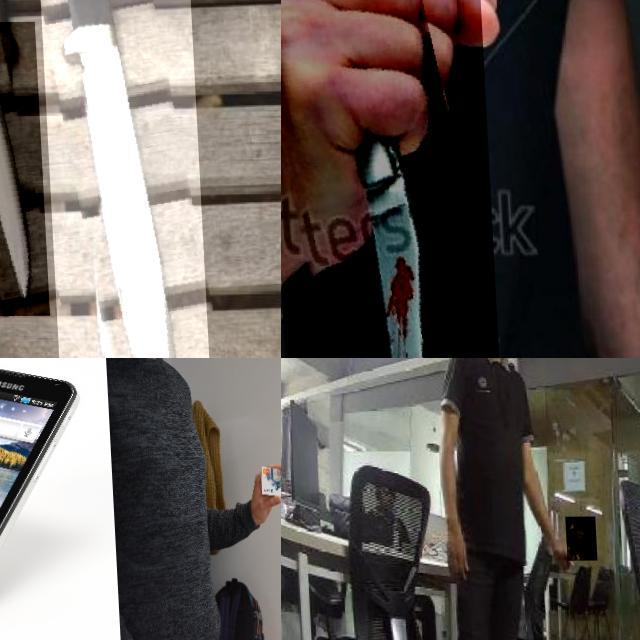-: (281, 0, 498, 358), (32, 0, 205, 358), (0, 21, 48, 316), (560, 517, 592, 561)
